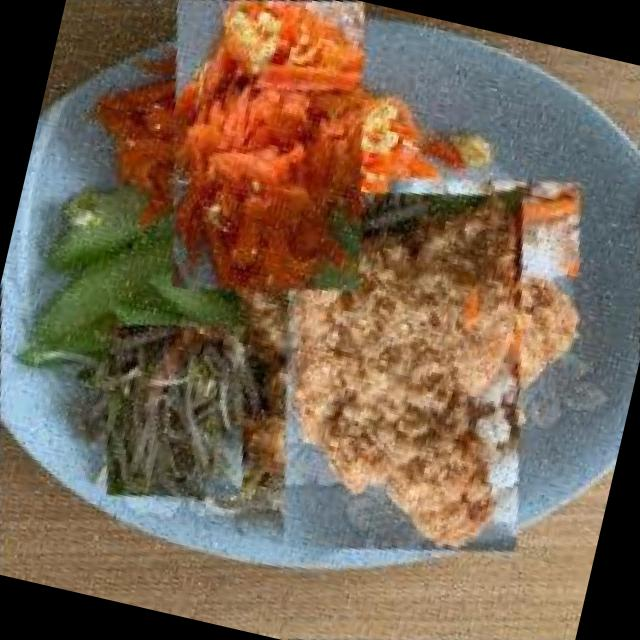carrot_eggs: (95, 0, 440, 312)
fried_chicken: (194, 160, 614, 580)
mung_bean_sprouts: (66, 301, 284, 520)
rice: (368, 140, 600, 316)
